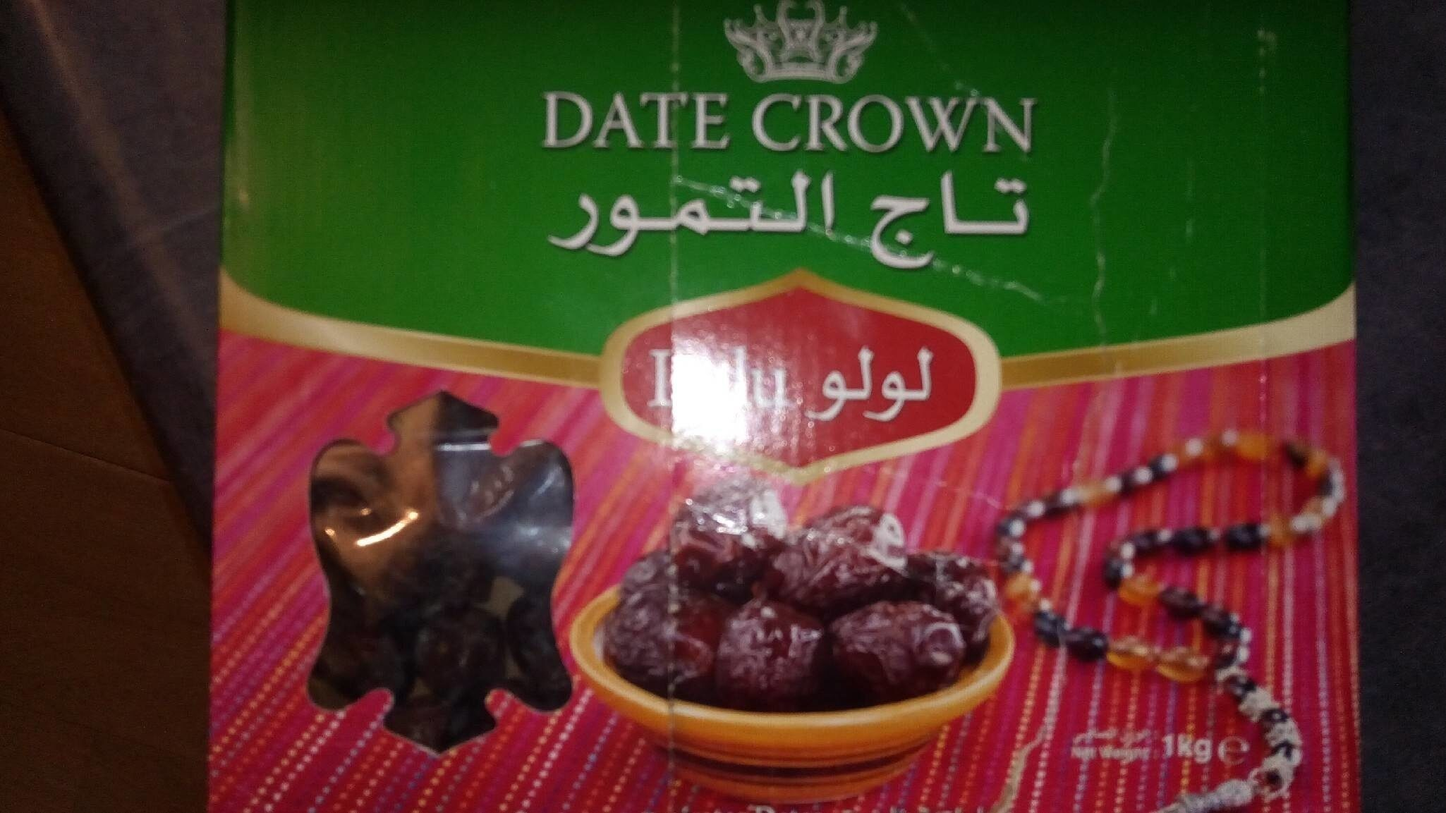Datteln Lulu: (72, 41, 1374, 772)
